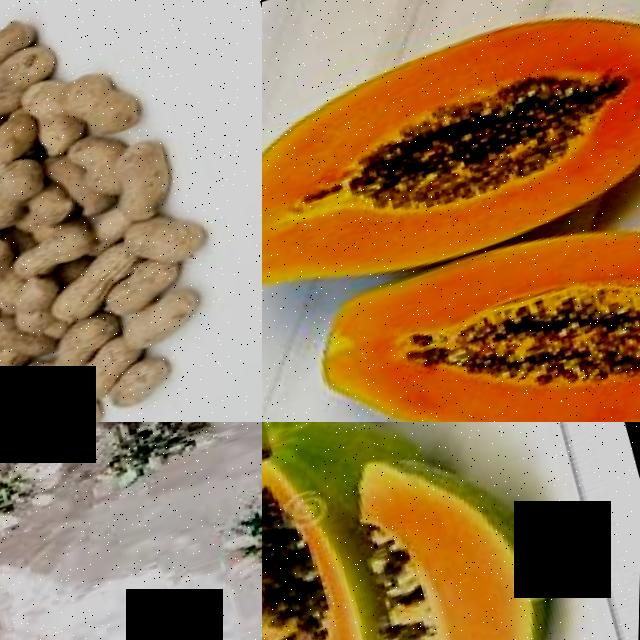oysters: (0, 422, 197, 583)
pawpaw: (262, 0, 640, 334), (294, 157, 640, 422), (298, 422, 592, 640), (262, 422, 414, 640)
peanuts: (53, 64, 146, 155), (105, 139, 183, 234), (123, 209, 211, 278), (9, 225, 99, 290), (98, 263, 189, 327), (123, 292, 207, 358), (17, 79, 75, 165), (46, 313, 124, 374), (69, 349, 144, 409), (103, 361, 177, 421), (0, 157, 51, 240), (0, 42, 63, 106), (44, 278, 108, 333), (0, 372, 57, 422), (4, 277, 62, 326), (0, 18, 40, 77), (0, 235, 23, 301)
